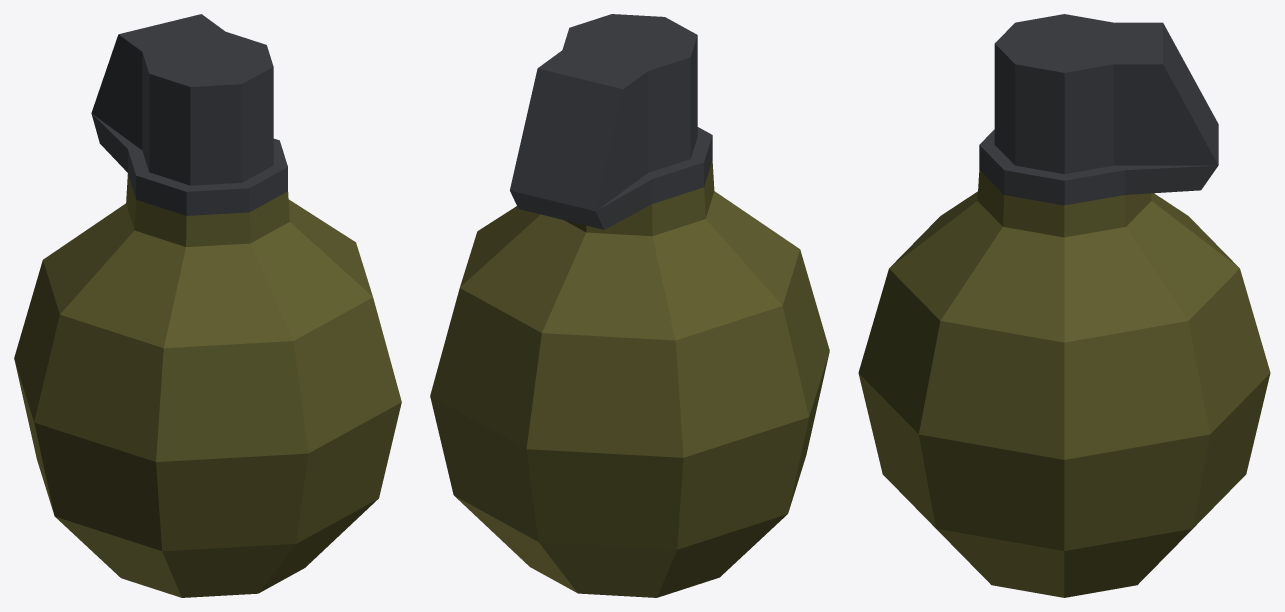
File: SM_Wep_Grenade_01.fbx
3 renders of one model, left to right at view 1: azimuth 30°, elevation 25°; view 2: azimuth 150°, elevation 25°; view 3: azimuth 270°, elevation 25°, orthographic. The views are drawn at different scales.
Visible parts, largest first — view 1: SM_Wep_Grenade_01; view 2: SM_Wep_Grenade_01; view 3: SM_Wep_Grenade_01.
Boxes of the visible parts, x1,y1,x2,y2 form: SM_Wep_Grenade_01: (14,14,401,597); SM_Wep_Grenade_01: (430,14,829,597); SM_Wep_Grenade_01: (858,14,1270,597).
Size of the model in its own units: 8.63 by 12.14 by 8.63.
